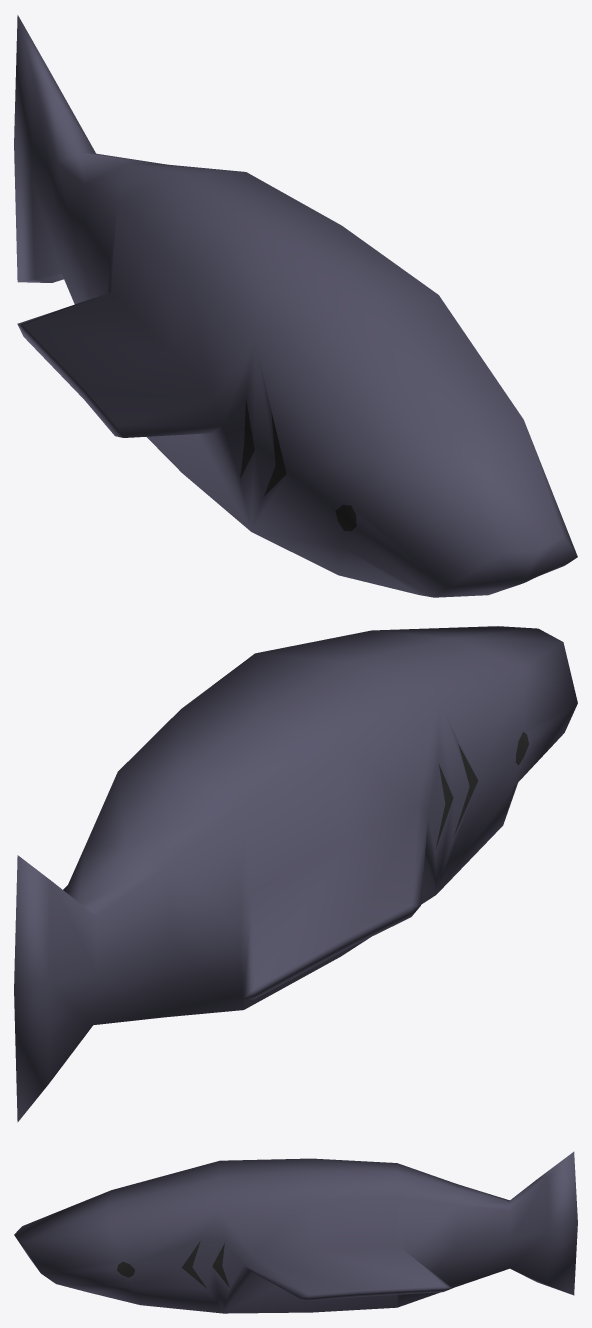
File: sharkenemy.fbx
3 renders of one model, top to bottom at view 1: azimuth 30°, elevation 25°; view 2: azimuth 150°, elevation 25°; view 3: azimuth 270°, elevation 25°, orthographic. The views are drawn at different scales.
Visible parts, largest first — view 1: sharkenemy; view 2: sharkenemy; view 3: sharkenemy.
Boxes of the visible parts, x1,y1,x2,y2 form: sharkenemy: [14, 15, 577, 597]; sharkenemy: [14, 626, 577, 1122]; sharkenemy: [14, 1151, 577, 1313].
Bounding box in the file's own units: 0.5777 × 0.5104 × 1.76.
